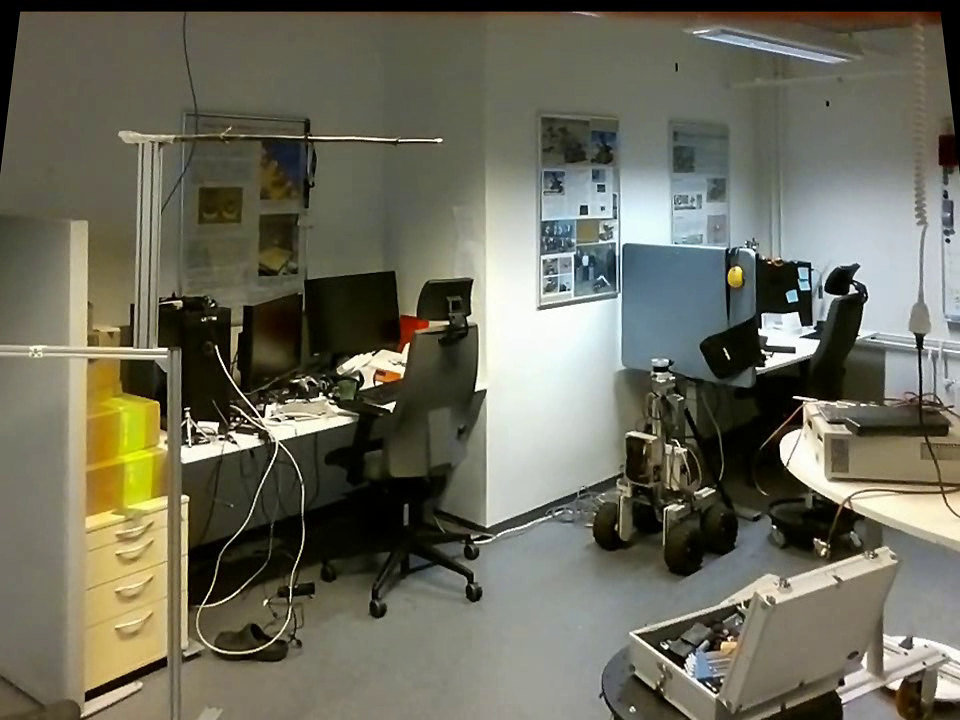aluminum_frame: (127, 144, 171, 350), (162, 343, 185, 718), (1, 336, 167, 363)
branch: (175, 120, 436, 154)
